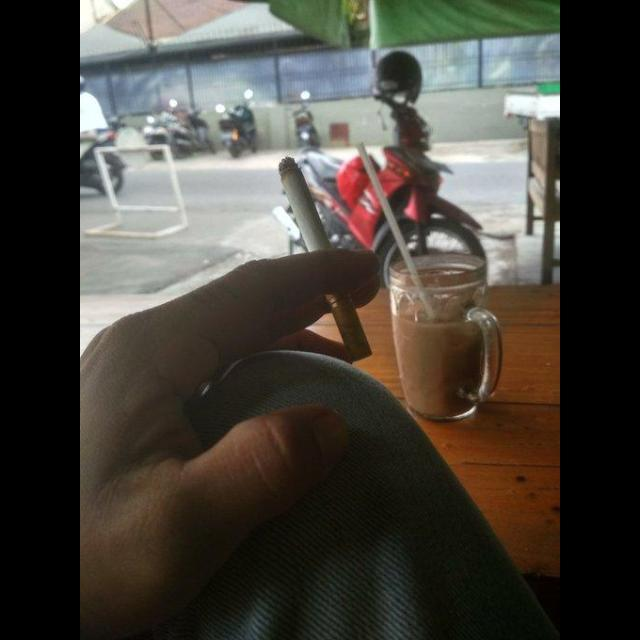rokok: (271, 154, 374, 360)
